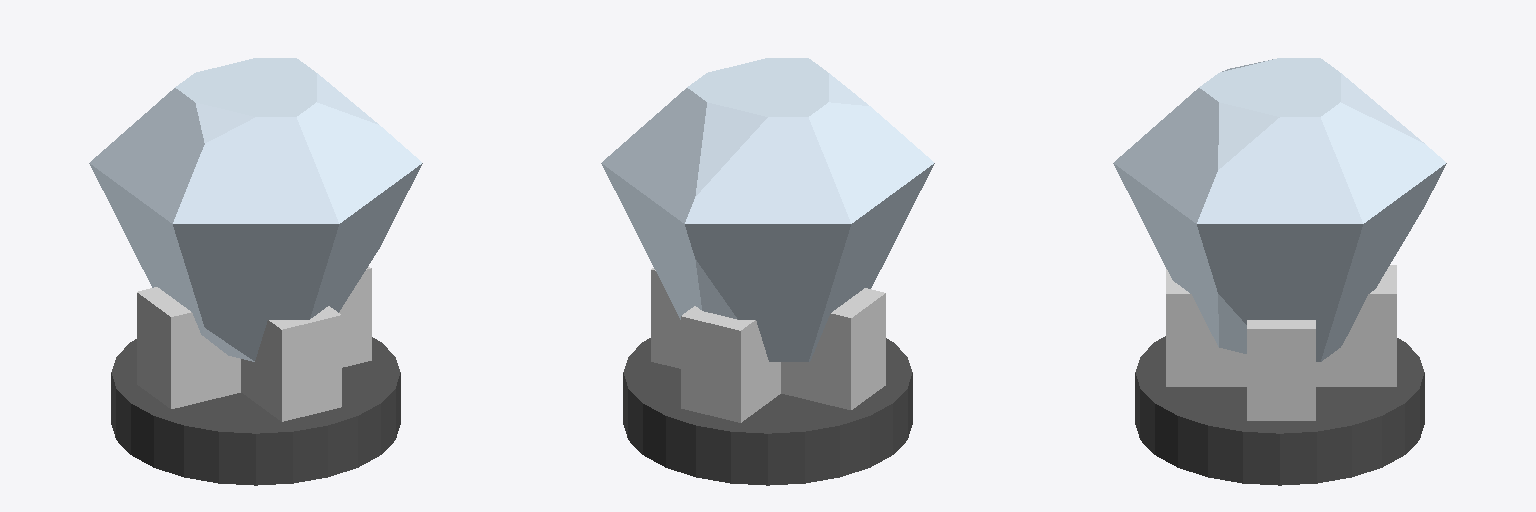
Rendered from gems_diamond_5.obj.
3 renders of one model, left to right at view 1: azimuth 30°, elevation 25°; view 2: azimuth 150°, elevation 25°; view 3: azimuth 270°, elevation 25°, orthographic.
Parts seen in each view (by area): view 1: mergedBlocks; view 2: mergedBlocks; view 3: mergedBlocks.
Boxes of the visible parts, x1,y1,x2,y2 form: mergedBlocks: [89, 58, 422, 485]; mergedBlocks: [601, 58, 934, 485]; mergedBlocks: [1113, 58, 1446, 485].
Size of the model in its own units: 1 by 1.29 by 1.15.